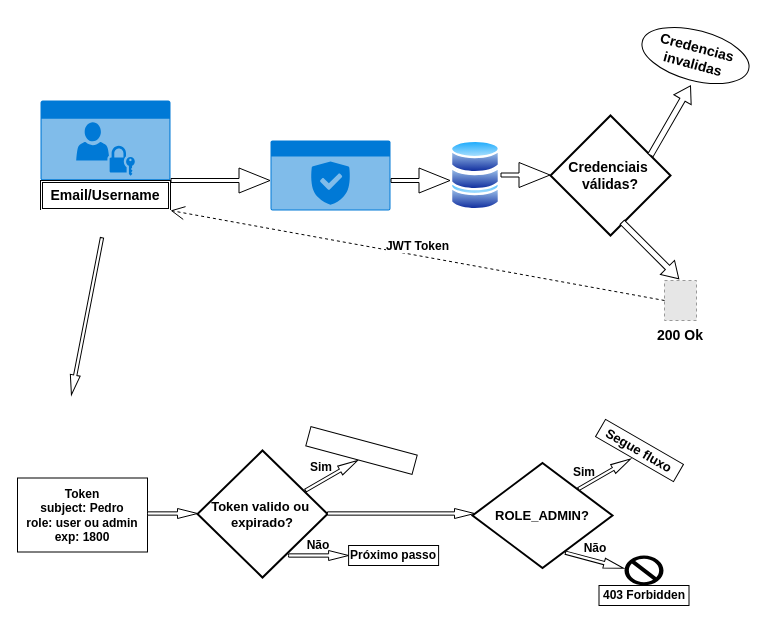
Some shapes in this 778 by 624 pixel diagram are drawn without their labels. Grey dashed boxes stand in for pictures. The centre of each missing label's shape, as x and y in pixels:
401 Unauthorized: point (361, 450)
Login: point (105, 140)
Security: point (330, 175)
Senha: point (105, 225)
